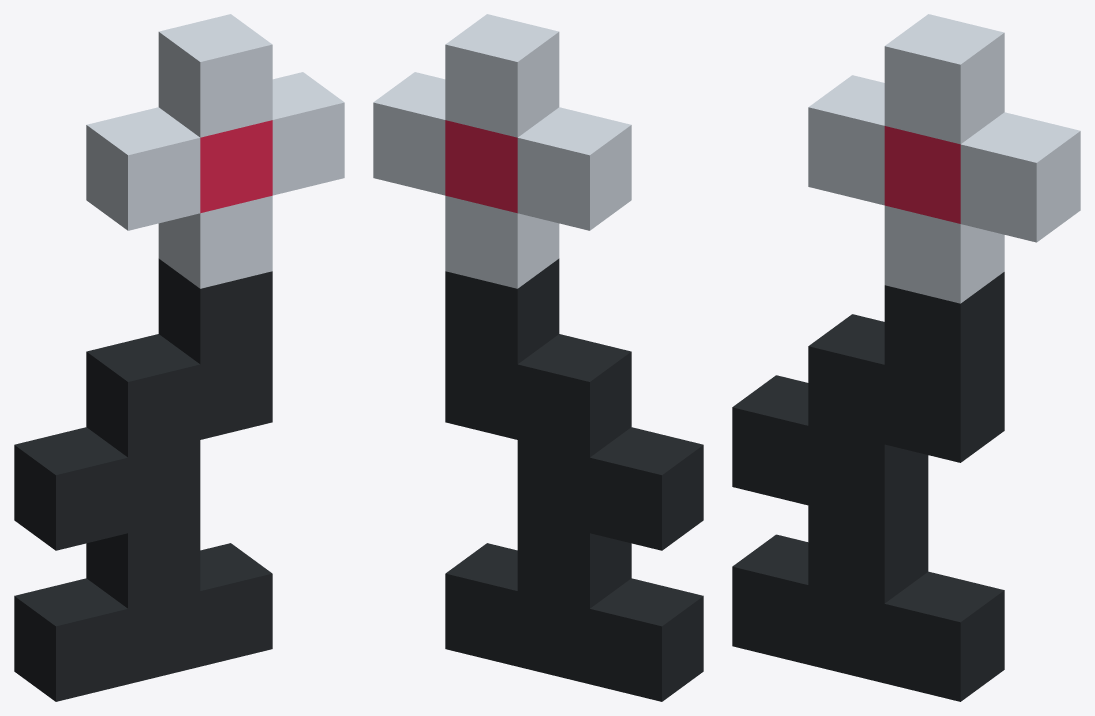
Rendered from dead-flower.obj.
3 renders of one model, left to right at view 1: azimuth 30°, elevation 25°; view 2: azimuth 150°, elevation 25°; view 3: azimuth 330°, elevation 25°, orthographic. The views are drawn at different scales.
Bounding box in the file's own units: 4 × 8 × 1.
Materials: 1 (1 with a texture image).
